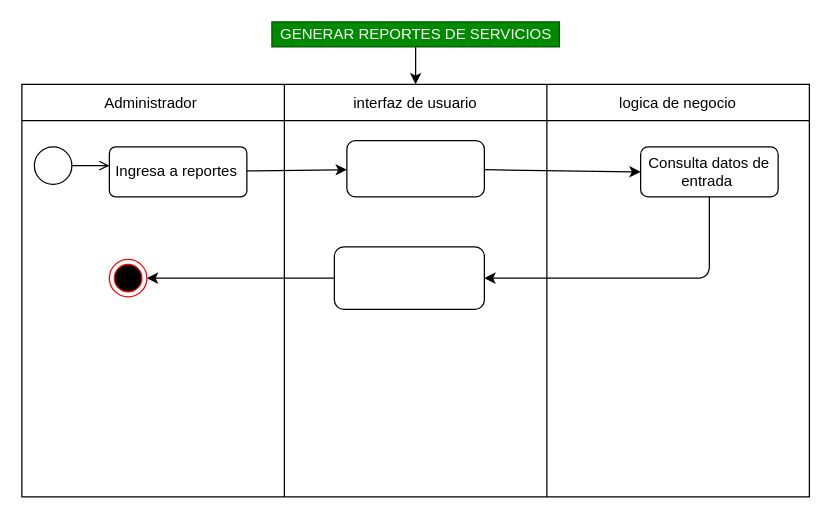
Image size: 831x519. Some labels were removed from this diagram. Each missing label, with the centre of its shape:
"Genera reporte" goes at point (415, 168).
"Muestra un excel de datos de entrada" goes at point (408, 277).
